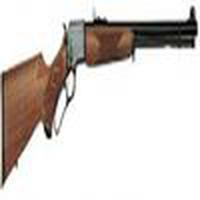gun: (1, 14, 200, 181)
